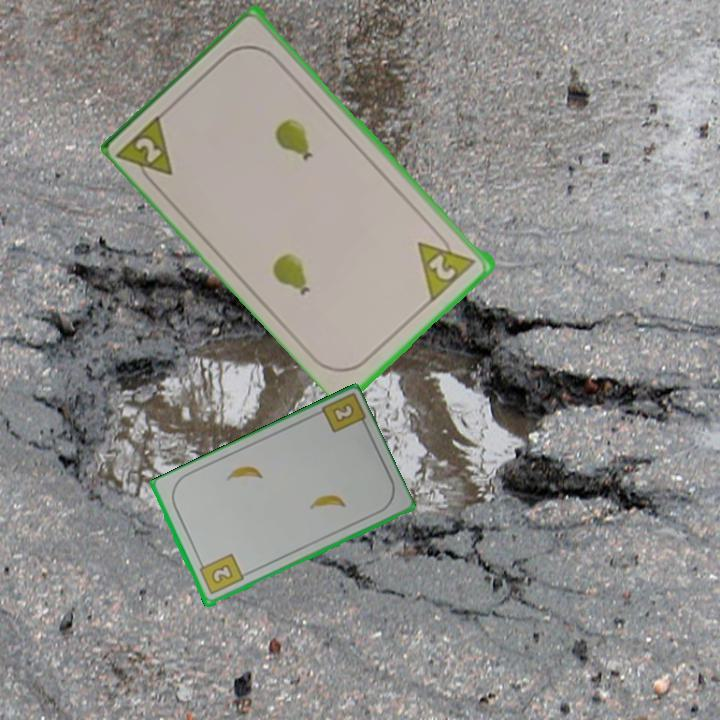2b: (195, 550, 246, 598), (329, 399, 357, 426)
2p: (115, 109, 177, 193), (414, 226, 480, 303)
